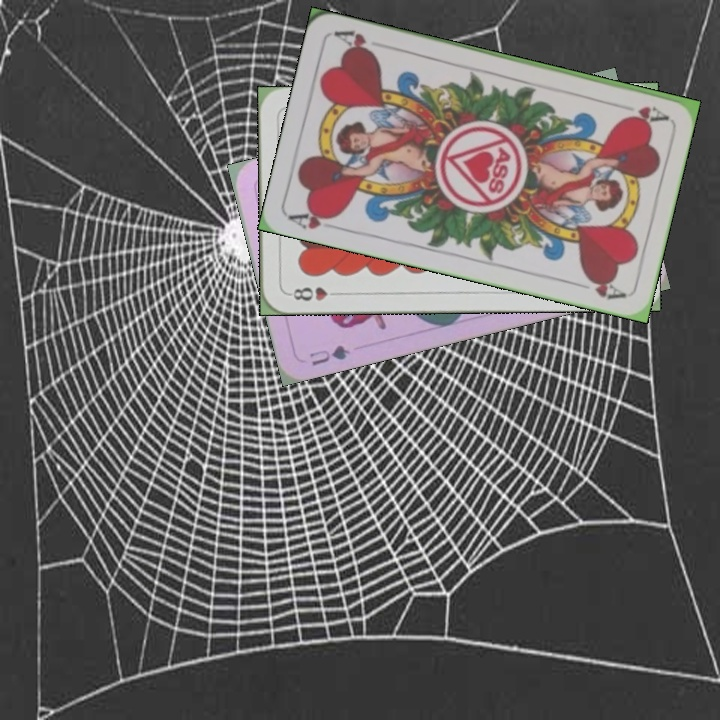GU: (305, 340, 352, 369)
H8: (285, 283, 344, 304)
HA: (286, 205, 344, 233), (611, 99, 670, 125)
